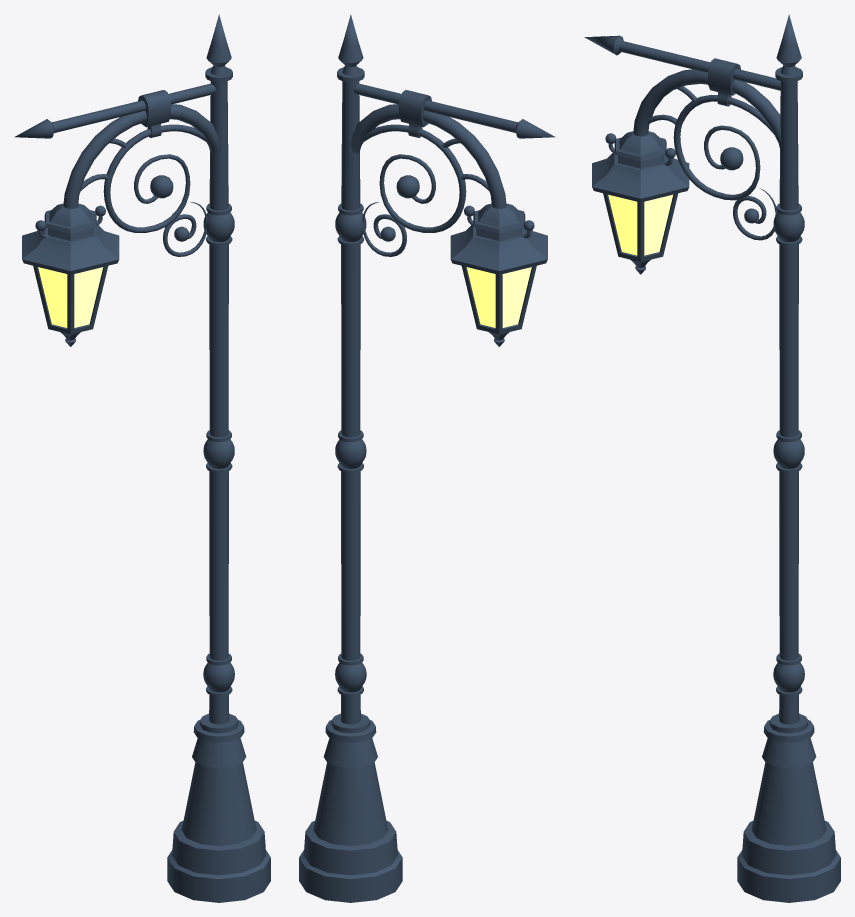
Rendered from V2Parklaterne.fbx.
3 renders of one model, left to right at view 1: azimuth 30°, elevation 25°; view 2: azimuth 150°, elevation 25°; view 3: azimuth 330°, elevation 25°, orthographic.
Parts seen in each view (by area): view 1: V2Laterne; view 2: V2Laterne; view 3: V2Laterne.
Boxes of the visible parts, box(x1,y1,x2,y2) form: V2Laterne: box(14, 14, 270, 902); V2Laterne: box(299, 14, 555, 902); V2Laterne: box(584, 14, 840, 902).
Size of the model in its own units: 93.49 by 310 by 33.58.
